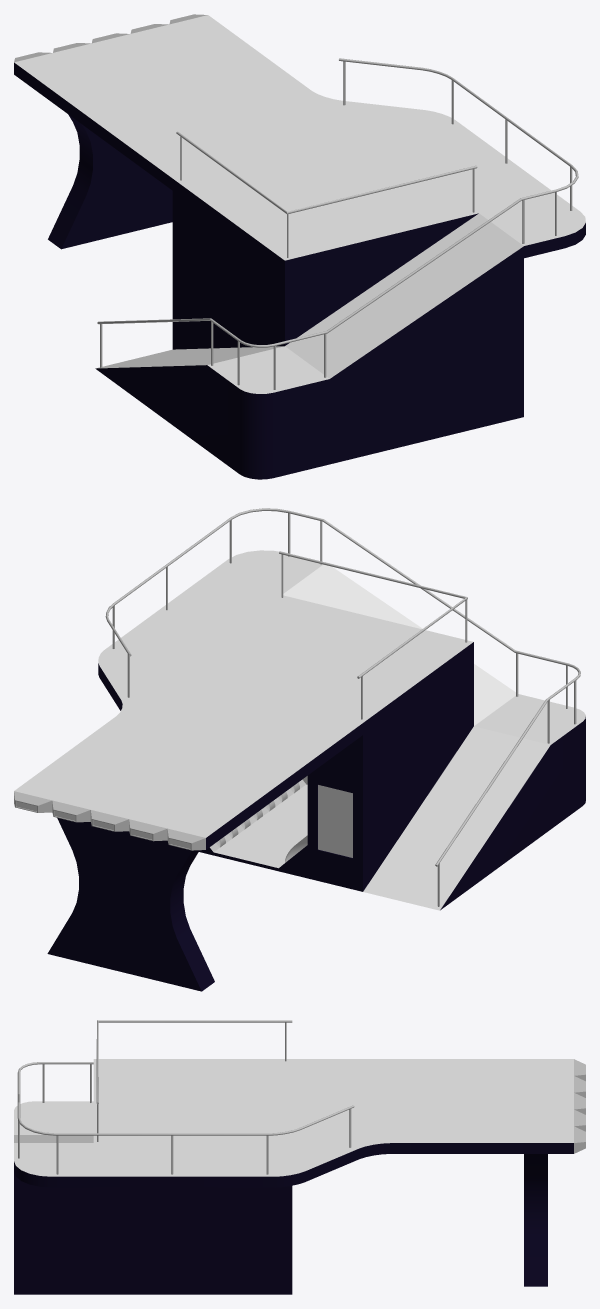
File: BASE_TP-LANDING.glb
The picture shows the model from 3 angles, top to bottom: view 1: azimuth 30°, elevation 25°; view 2: azimuth 150°, elevation 25°; view 3: azimuth 270°, elevation 25°; orthographic projection. The views are drawn at different scales.
Parts seen in each view (by area): view 1: TP_LANDING; view 2: TP_LANDING; view 3: TP_LANDING.
Part boxes in pixels (x1,y1,x2,y2): TP_LANDING: [14, 14, 585, 479]; TP_LANDING: [14, 508, 585, 991]; TP_LANDING: [14, 1020, 585, 1294].
Bounding box in the file's own units: 9 × 5.33 × 14.38.
